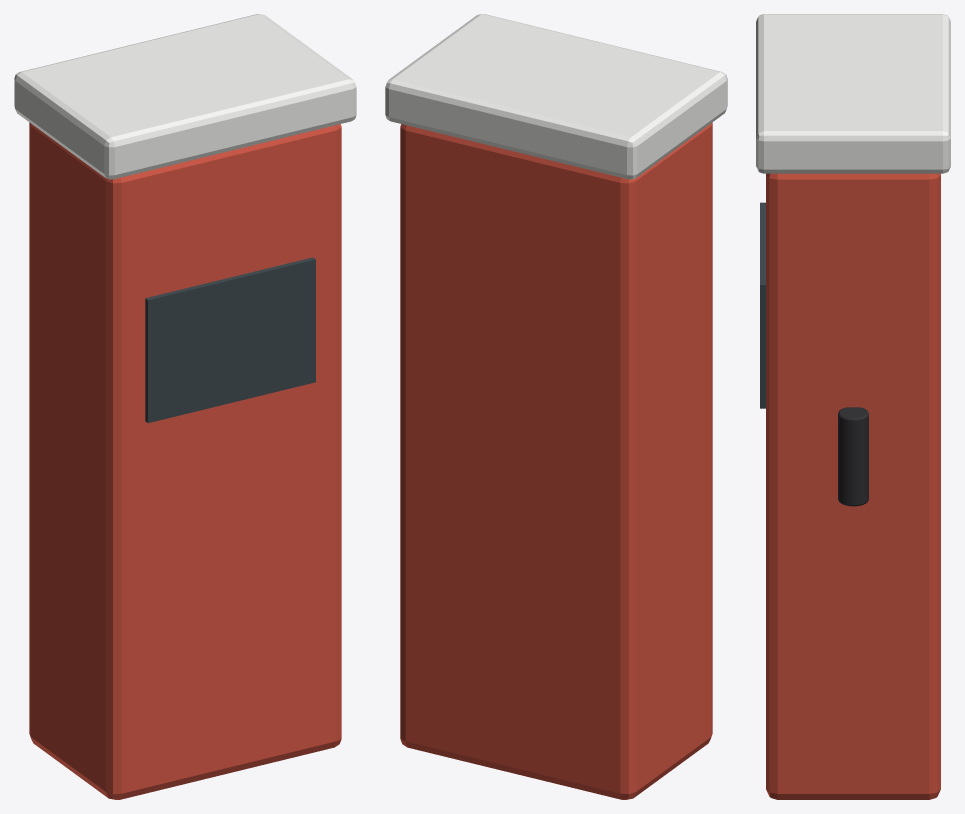
Rendered from fuel_pump.glb.
The picture shows the model from 3 angles, left to right: view 1: azimuth 30°, elevation 25°; view 2: azimuth 150°, elevation 25°; view 3: azimuth 270°, elevation 25°; orthographic projection.
Visible parts, largest first — view 1: fuel_pump; view 2: fuel_pump; view 3: fuel_pump.
Boxes of the visible parts, <box> form: fuel_pump: <box>14,14,356,799</box>; fuel_pump: <box>385,14,727,799</box>; fuel_pump: <box>756,14,950,799</box>.
Bounding box in the file's own units: 0.795 × 1.91 × 0.5.
